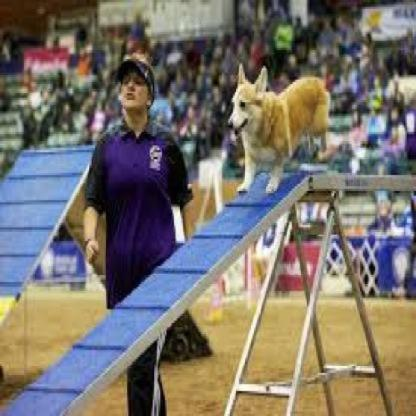dog: (226, 63, 330, 194)
